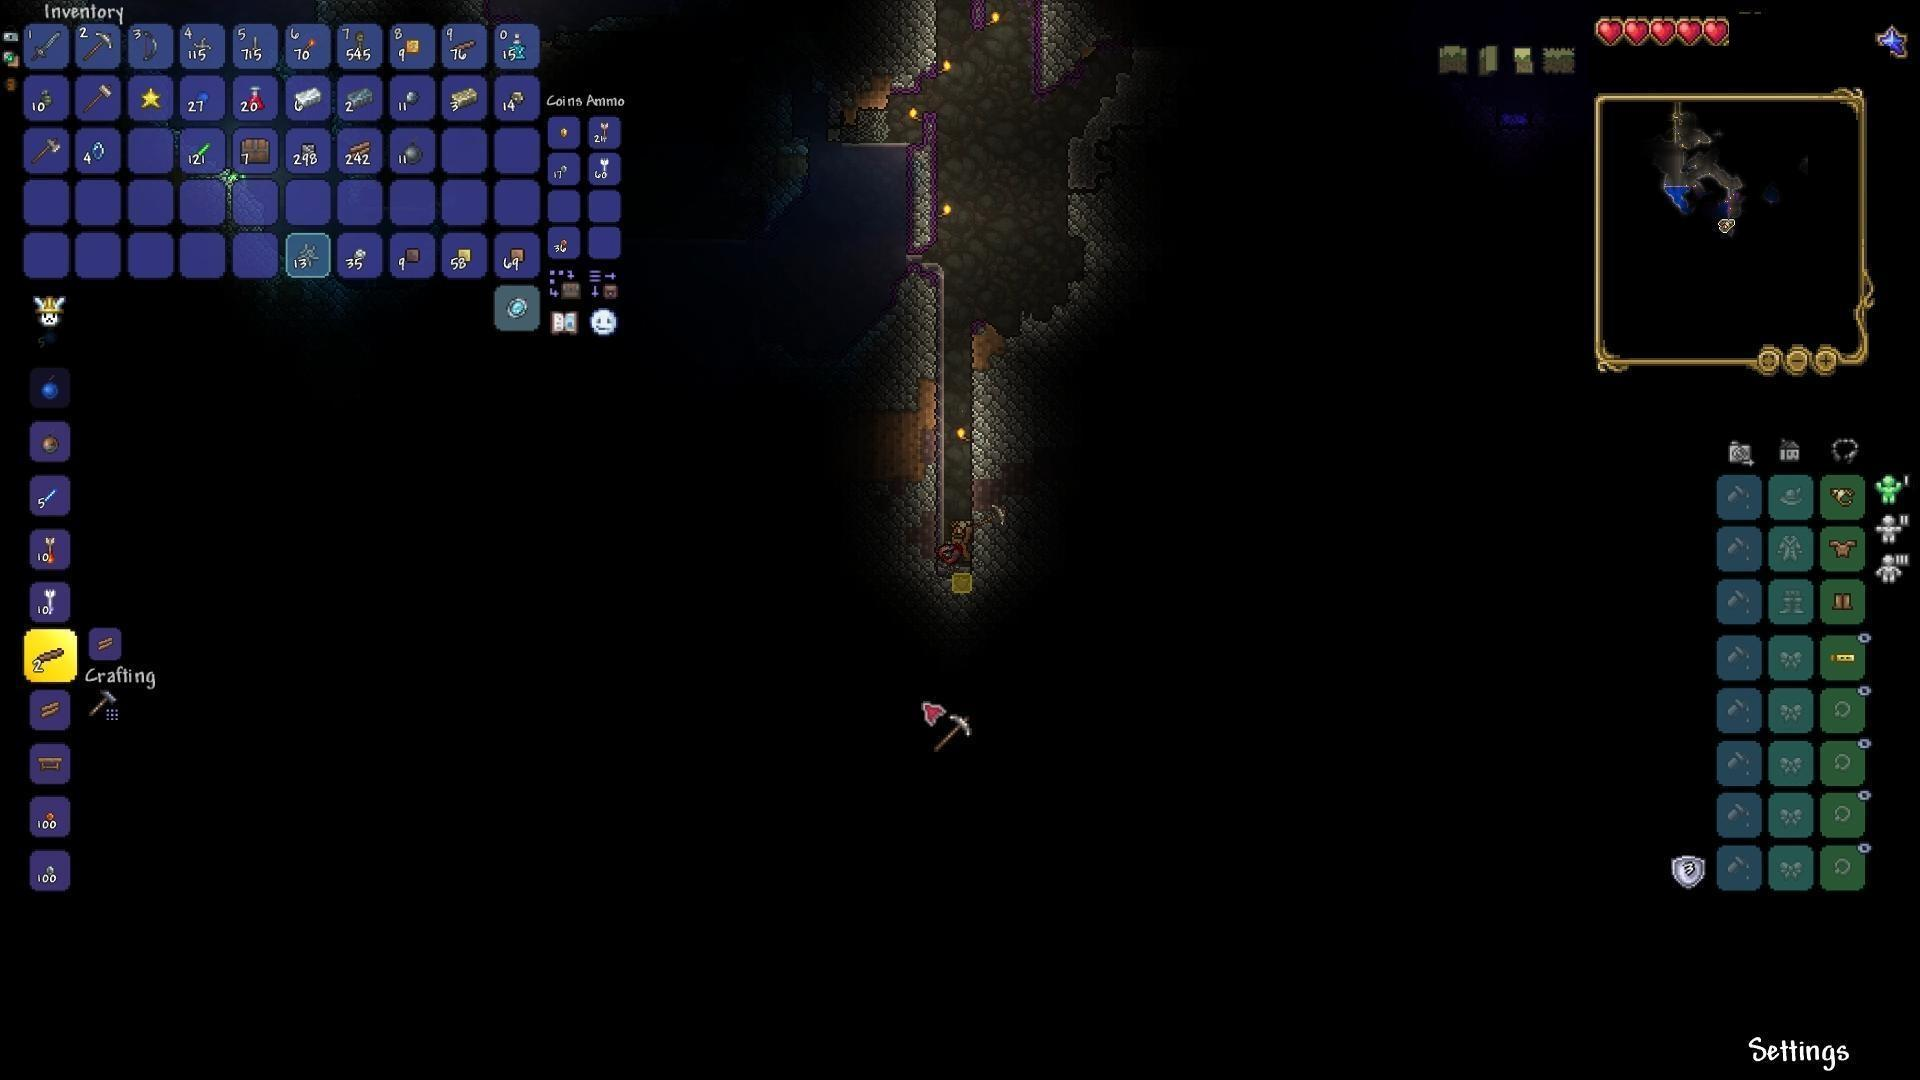heart: (1702, 17, 1733, 51), (1593, 16, 1626, 46), (1676, 15, 1704, 50), (1650, 16, 1676, 49), (1625, 15, 1651, 44)
liquid: (835, 120, 918, 181)
stone: (877, 270, 949, 382), (884, 0, 945, 82), (1029, 0, 1072, 108), (1001, 303, 1067, 364), (913, 564, 971, 628), (884, 465, 942, 517), (965, 522, 1011, 585), (1067, 196, 1095, 289), (971, 368, 992, 480)
